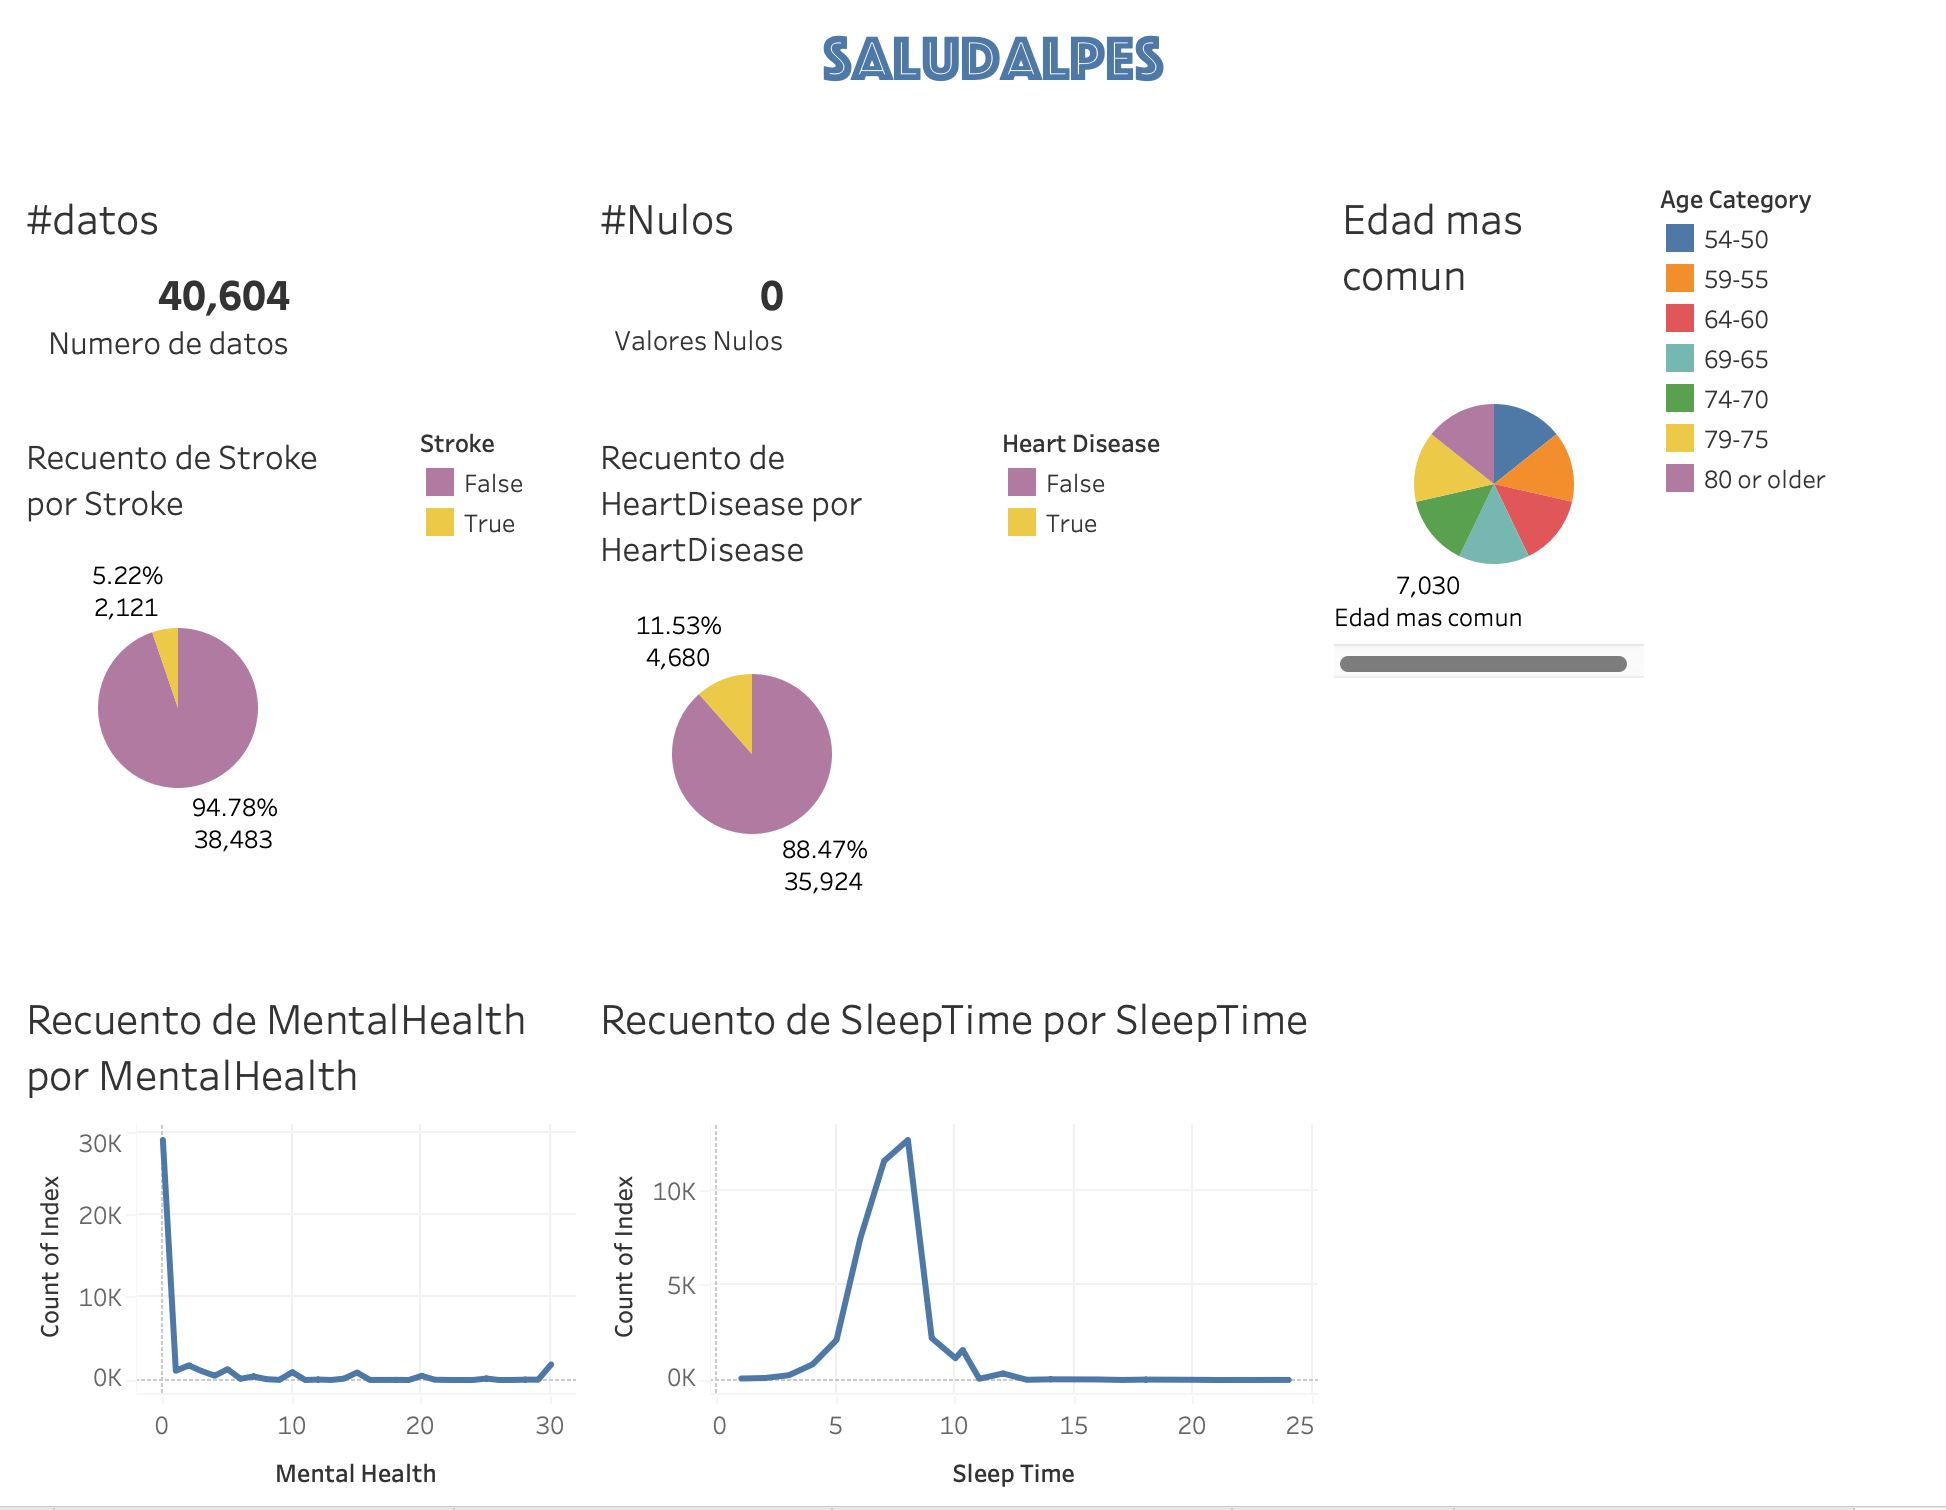

The dashboard page shown, as its layout file describes it:
{"tool":"tableau","page":{"name":"Dashboard 1","canvas":[1000,800],"ordinal":0},"visuals":[{"type":"text","box":[8,8,984,115]},{"type":"worksheet","title":"#datos","mark":"Automatic","box":[8,123,287,122]},{"type":"worksheet","title":"#Nulos","mark":"Automatic","box":[295,123,371,122]},{"type":"worksheet","title":"Edad mas comun","mark":"Pie","box":[666,123,163,669]},{"type":"legend","title":"Edad mas comun","param":"[federated.0meff971mbwlgn1dy3nvt17mds6f].[none:AgeCategory:nk]","box":[829,123,163,669]},{"type":"worksheet","title":"Recuento de Stroke por Stroke","mark":"Pie","box":[8,245,201.2,278.2]},{"type":"legend","title":"Recuento de Stroke por Stroke","param":"[federated.0meff971mbwlgn1dy3nvt17mds6f].[none:Stroke:nk]","box":[209.2,245,85.8,278.2]},{"type":"worksheet","title":"Recuento de HeartDisease por HeartDisease","mark":"Pie","box":[295,245,205,278.2]},{"type":"legend","title":"Recuento de HeartDisease por HeartDisease","param":"[federated.0meff971mbwlgn1dy3nvt17mds6f].[none:HeartDisease:nk]","box":[500,245,166,278.2]},{"type":"worksheet","title":"Recuento de MentalHealth por MentalHealth","mark":"Automatic","rows":["Index"],"cols":["MentalHealth"],"box":[8,523.2,287,268.8]},{"type":"worksheet","title":"Recuento de SleepTime por SleepTime","mark":"Line","rows":["Index"],"cols":["SleepTime"],"box":[295,523.2,371,268.8]}]}

Visuals, with their boxes on the page's 1000x800 design canvas (x1, y1, x2, y2). These are canvas units, not pixel positions in the 1946x1510 screenshot, which may show the page scaled, cropped or inside an application window:
text: box(8, 8, 992, 123)
"#datos" worksheet: box(8, 123, 295, 245)
"#Nulos" worksheet: box(295, 123, 666, 245)
"Edad mas comun" worksheet (Pie marks): box(666, 123, 829, 792)
"Edad mas comun" legend: box(829, 123, 992, 792)
"Recuento de Stroke por Stroke" worksheet (Pie marks): box(8, 245, 209, 523)
"Recuento de Stroke por Stroke" legend: box(209, 245, 295, 523)
"Recuento de HeartDisease por HeartDisease" worksheet (Pie marks): box(295, 245, 500, 523)
"Recuento de HeartDisease por HeartDisease" legend: box(500, 245, 666, 523)
"Recuento de MentalHealth por MentalHealth" worksheet: box(8, 523, 295, 792)
"Recuento de SleepTime por SleepTime" worksheet (Line marks): box(295, 523, 666, 792)
